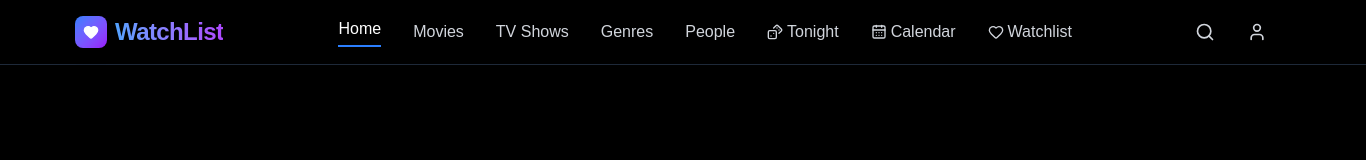
Test: keyboard shortcuts › closes an empty search bar on Escape and hands focus back to its button
Step 1. Click the button named "Open search" → click(1205, 32), box [1187, 14, 1223, 50]
Wait 150 ms
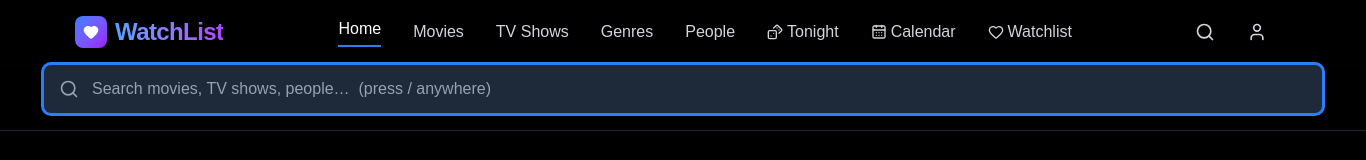
Step 2. Press Escape
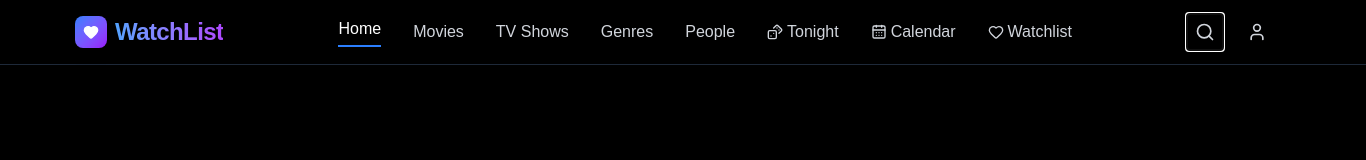
Check: the button named "Open search" is shown, box [1187, 14, 1223, 50]
